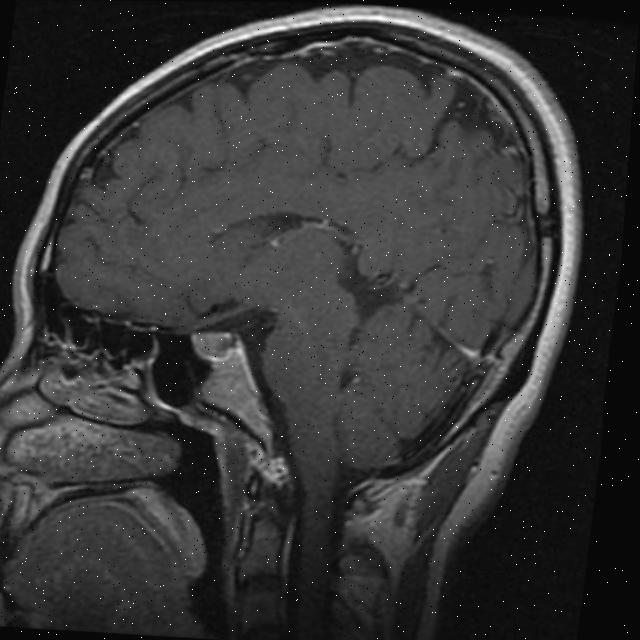Pituitary: (184, 329, 237, 363)
